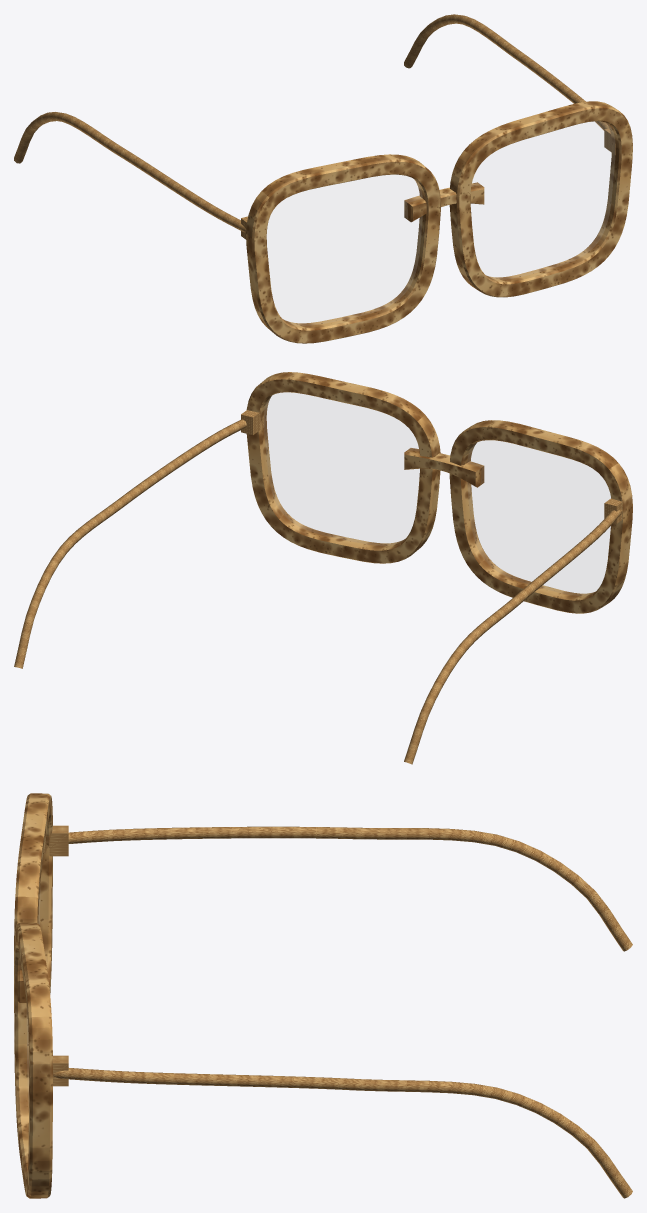
Rendered from NY-W03_Opal_Honey_tortoise.glb.
3 renders of one model, top to bottom at view 1: azimuth 30°, elevation 25°; view 2: azimuth 150°, elevation 25°; view 3: azimuth 270°, elevation 25°, orthographic. The views are drawn at different scales.
Parts seen in each view (by area): view 1: Opal_Honey_tortoise_Lenses, Opal_Honey_tortoise_Acetate; view 2: Opal_Honey_tortoise_Lenses, Opal_Honey_tortoise_Acetate; view 3: Opal_Honey_tortoise_Acetate.
Part boxes in pixels (box(x1,y1,x2,y2)): Opal_Honey_tortoise_Lenses: box(267, 122, 614, 325); Opal_Honey_tortoise_Acetate: box(14, 14, 632, 343); Opal_Honey_tortoise_Lenses: box(264, 393, 610, 595); Opal_Honey_tortoise_Acetate: box(14, 372, 632, 764); Opal_Honey_tortoise_Acetate: box(14, 793, 632, 1198).
Bounding box in the file's own units: 0.1465 × 0.0585 × 0.1484.
Materials: 2 (1 with a texture image).
